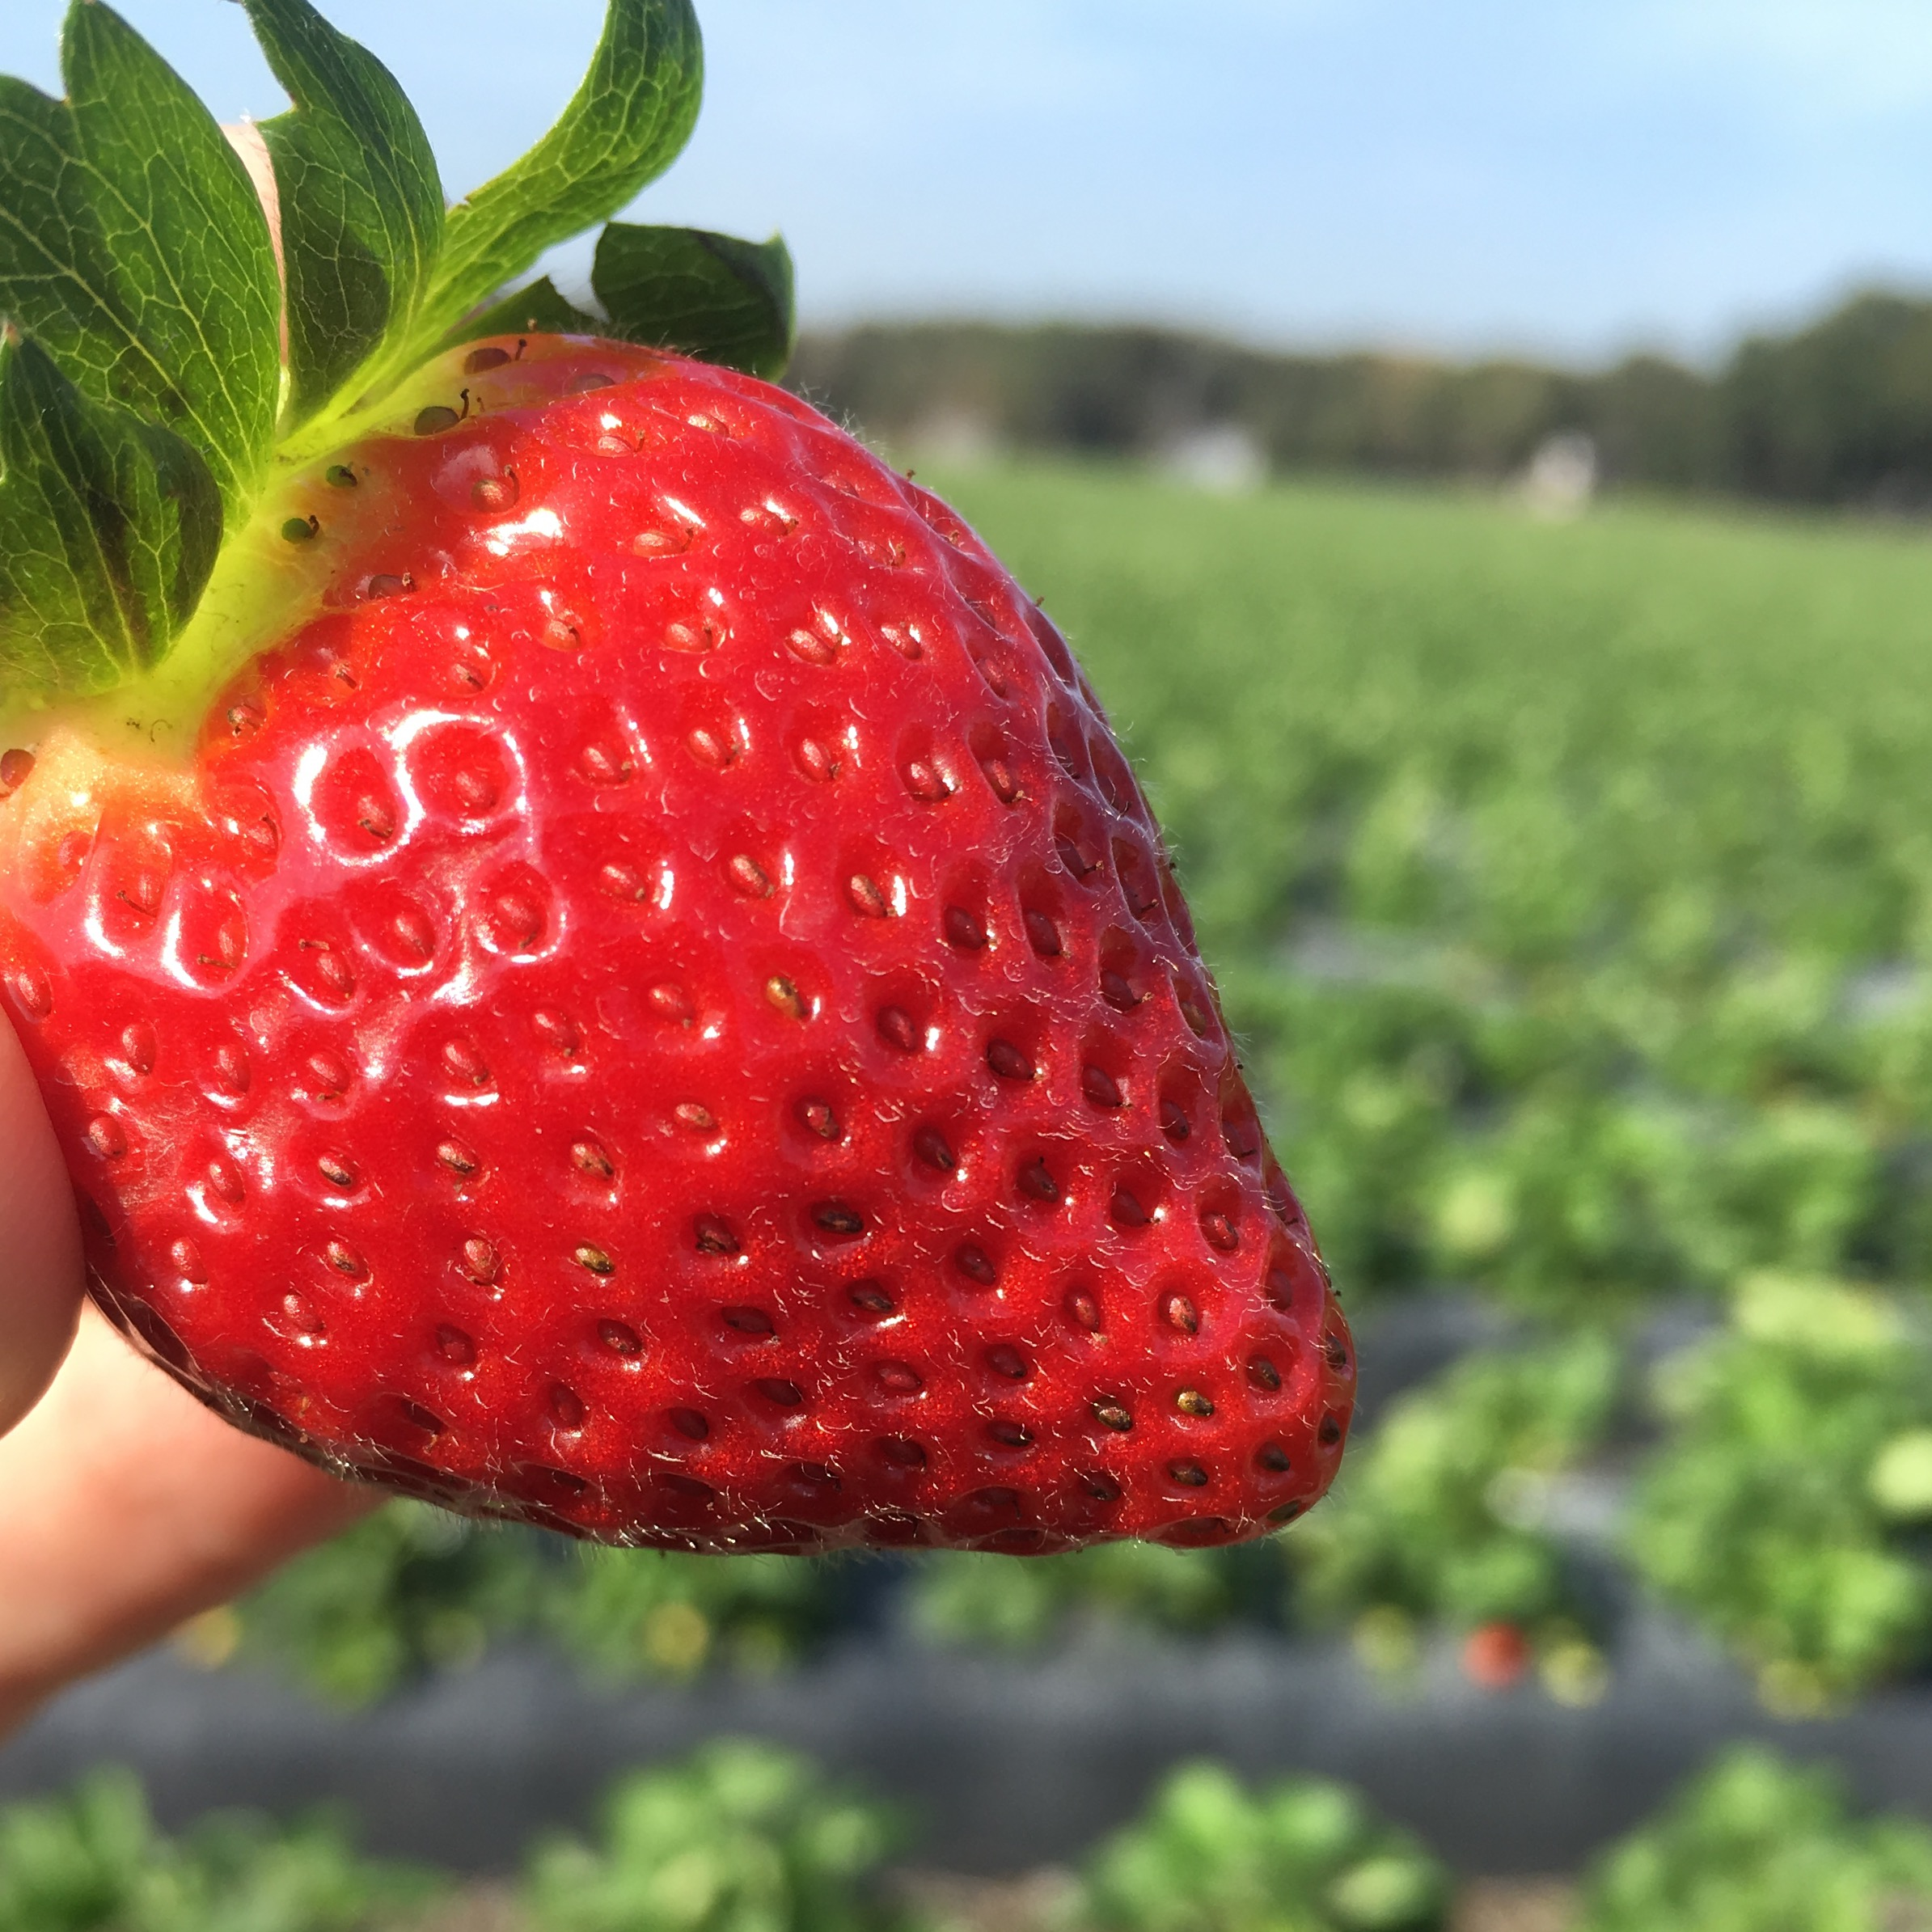ripe: (4, 301, 1348, 1562)
